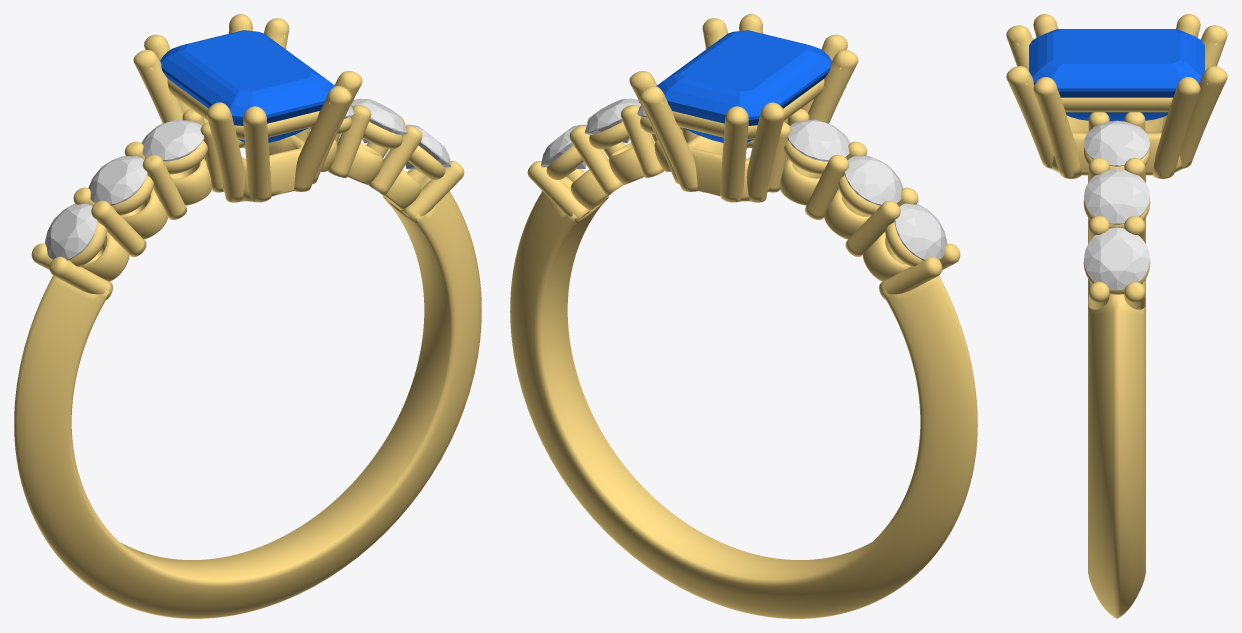
The model's file is bluesapphire-emerald-yellowgold-8prong-knifeedge-7stone.glb.
3 renders of one model, left to right at view 1: azimuth 30°, elevation 25°; view 2: azimuth 150°, elevation 25°; view 3: azimuth 270°, elevation 25°, orthographic.
Parts seen in each view (by area): view 1: metal.002, stone, side, side.001, side.002, side.004, side.005; view 2: metal.002, stone, side, side.001, side.002, side.004, side.005; view 3: metal.002, stone, side.005, side.004, side.003.
Boxes of the visible parts, bbox=[...] form: metal.002: bbox=[14, 14, 481, 618]; stone: bbox=[160, 30, 335, 142]; side: bbox=[45, 203, 97, 260]; side.001: bbox=[88, 156, 147, 205]; side.002: bbox=[141, 119, 204, 161]; side.004: bbox=[351, 98, 407, 143]; side.005: bbox=[404, 124, 450, 168]; metal.002: bbox=[510, 14, 977, 618]; stone: bbox=[656, 30, 831, 142]; side: bbox=[894, 203, 946, 260]; side.001: bbox=[844, 156, 903, 205]; side.002: bbox=[787, 119, 850, 161]; side.004: bbox=[584, 98, 640, 143]; side.005: bbox=[541, 124, 587, 168]; metal.002: bbox=[1006, 14, 1227, 618]; stone: bbox=[1029, 29, 1204, 121]; side.005: bbox=[1084, 227, 1149, 290]; side.004: bbox=[1084, 168, 1149, 224]; side.003: bbox=[1084, 120, 1149, 166].
Size of the model in its own units: 20.38 by 22.94 by 8.4.
